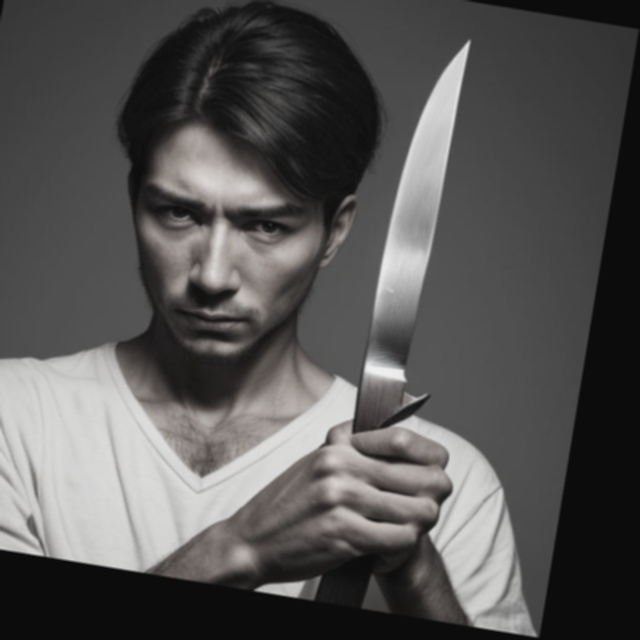Sharp-Object: (309, 23, 494, 615)
